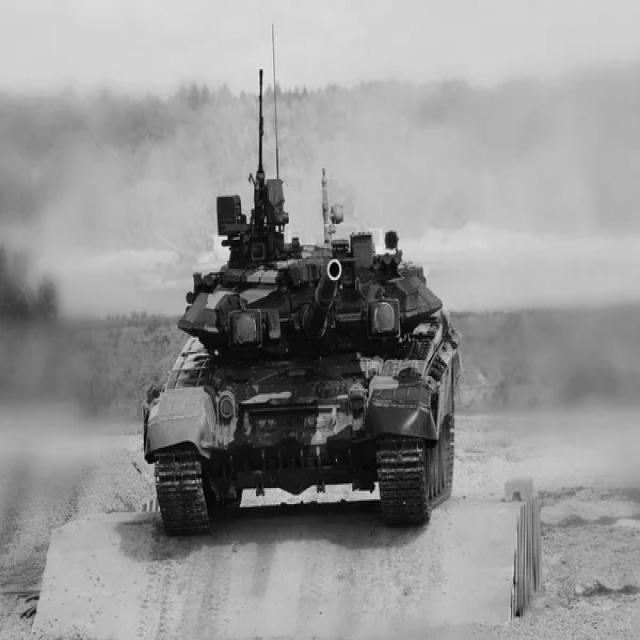Tank: (145, 99, 465, 543)
